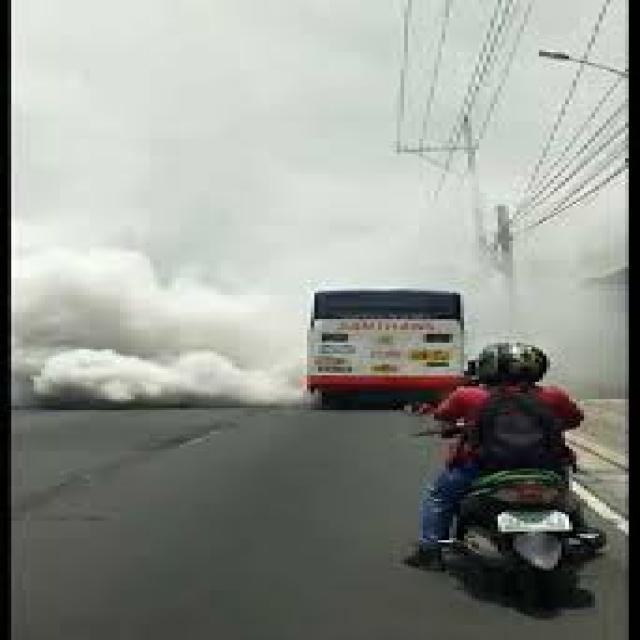smoke: (8, 219, 334, 420)
